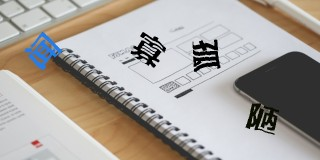孤: (191, 38, 221, 73)
寡: (130, 30, 166, 69)
闻: (24, 32, 62, 69)
陋: (246, 102, 279, 135)
